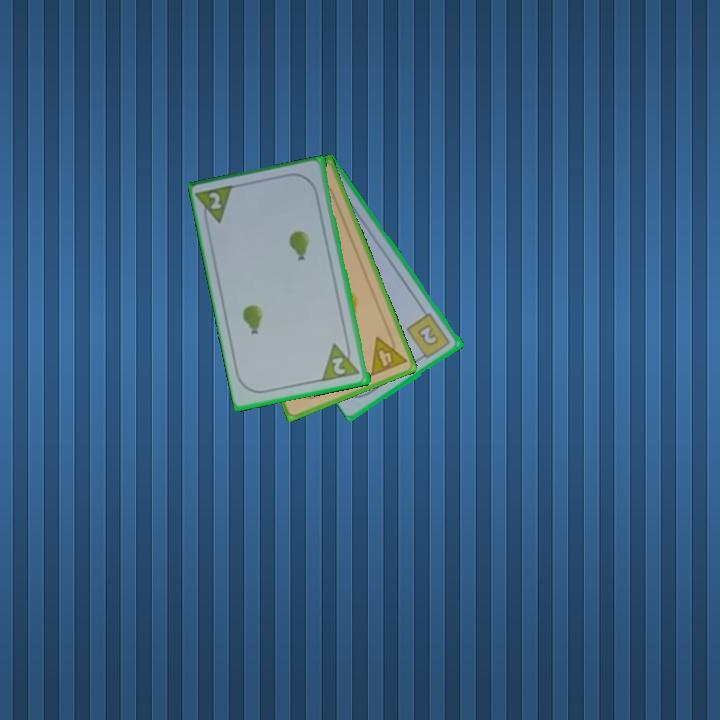2b: (403, 310, 453, 363)
2p: (319, 338, 363, 384), (205, 189, 225, 213)
4p: (367, 328, 409, 379)
